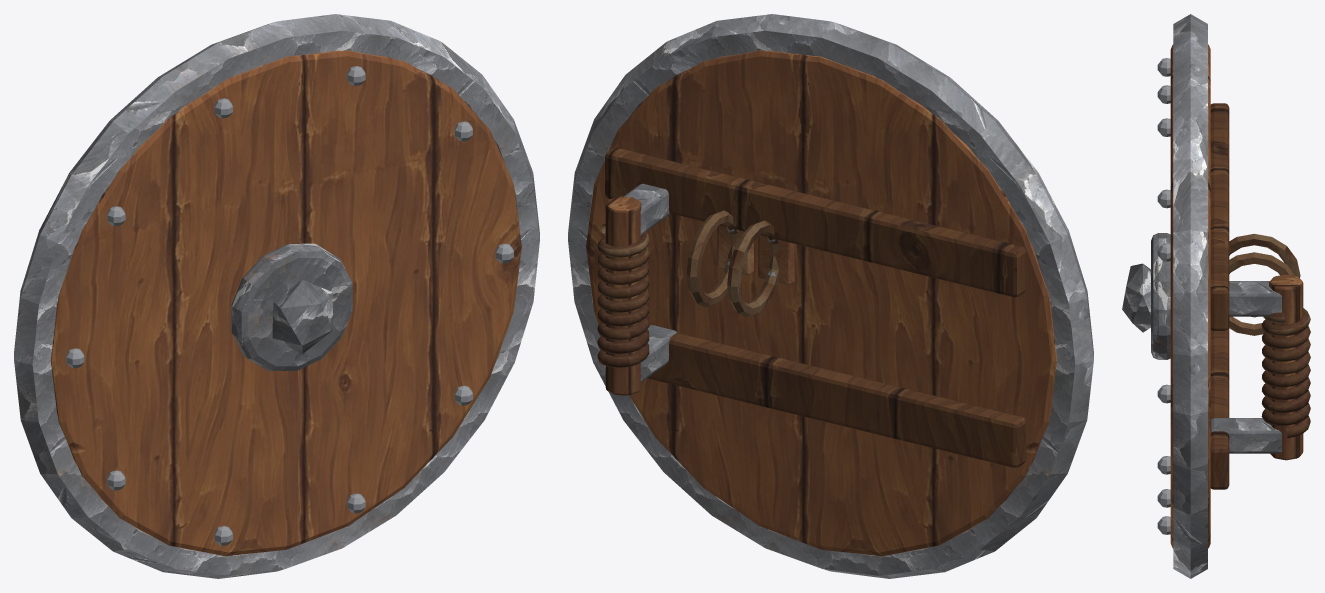
Rendered from shield_silver.glb.
3 views of the same model, side by side, from view 1: azimuth 30°, elevation 25°; view 2: azimuth 150°, elevation 25°; view 3: azimuth 270°, elevation 25° (orthographic). The views are drawn at different scales.
Parts seen in each view (by area): view 1: model; view 2: model; view 3: model.
Part boxes in pixels (x1=…): model: x1=14, y1=14, x2=539, y2=578; model: x1=568, y1=14, x2=1093, y2=578; model: x1=1122, y1=14, x2=1310, y2=578.
Bounding box in the file's own units: 0.71 × 0.71 × 0.2372.
8 materials, 7 textured.
